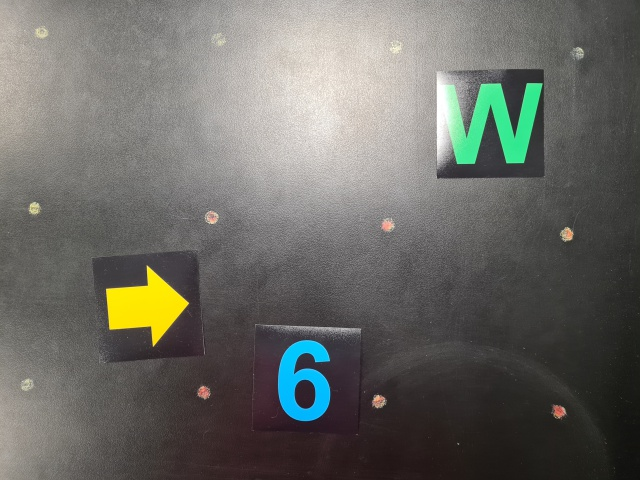alphabet_w: (436, 69, 548, 180)
right_arrow: (91, 251, 208, 361)
six: (252, 324, 363, 436)
